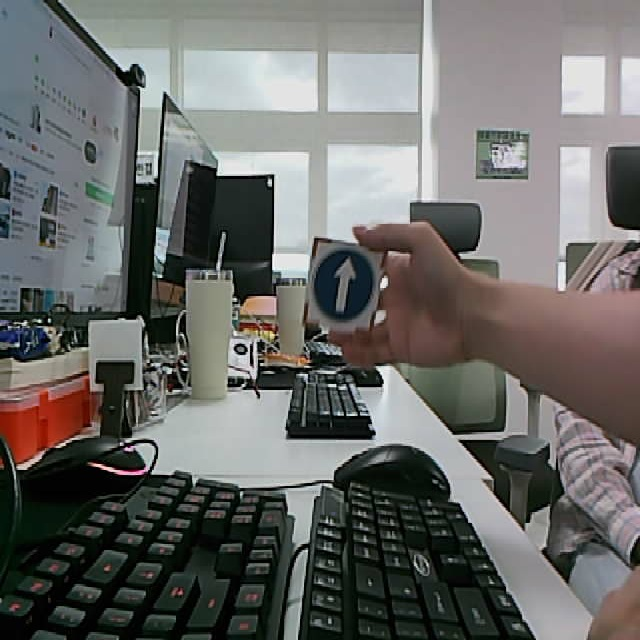straight: (301, 235, 387, 340)
